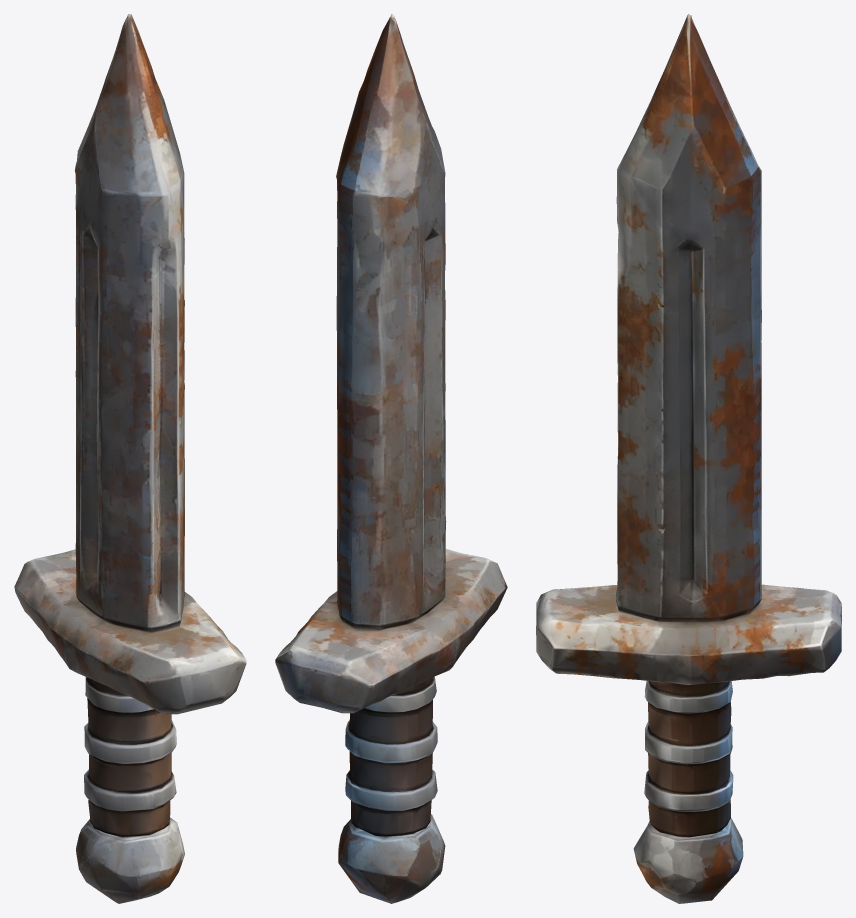
The model's file is w_rusty--dagger.glb.
3 views of the same model, side by side, from view 1: azimuth 30°, elevation 25°; view 2: azimuth 150°, elevation 25°; view 3: azimuth 270°, elevation 25° (orthographic).
Parts seen in each view (by area): view 1: Weapon; view 2: Weapon; view 3: Weapon.
Boxes of the visible parts, box(x1,y1,x2,y2) form: Weapon: box(14, 14, 246, 903); Weapon: box(275, 14, 507, 903); Weapon: box(536, 14, 841, 903).
Size of the model in its own units: 0.1536 by 0.9789 by 0.3074.
1 material, 1 textured.
